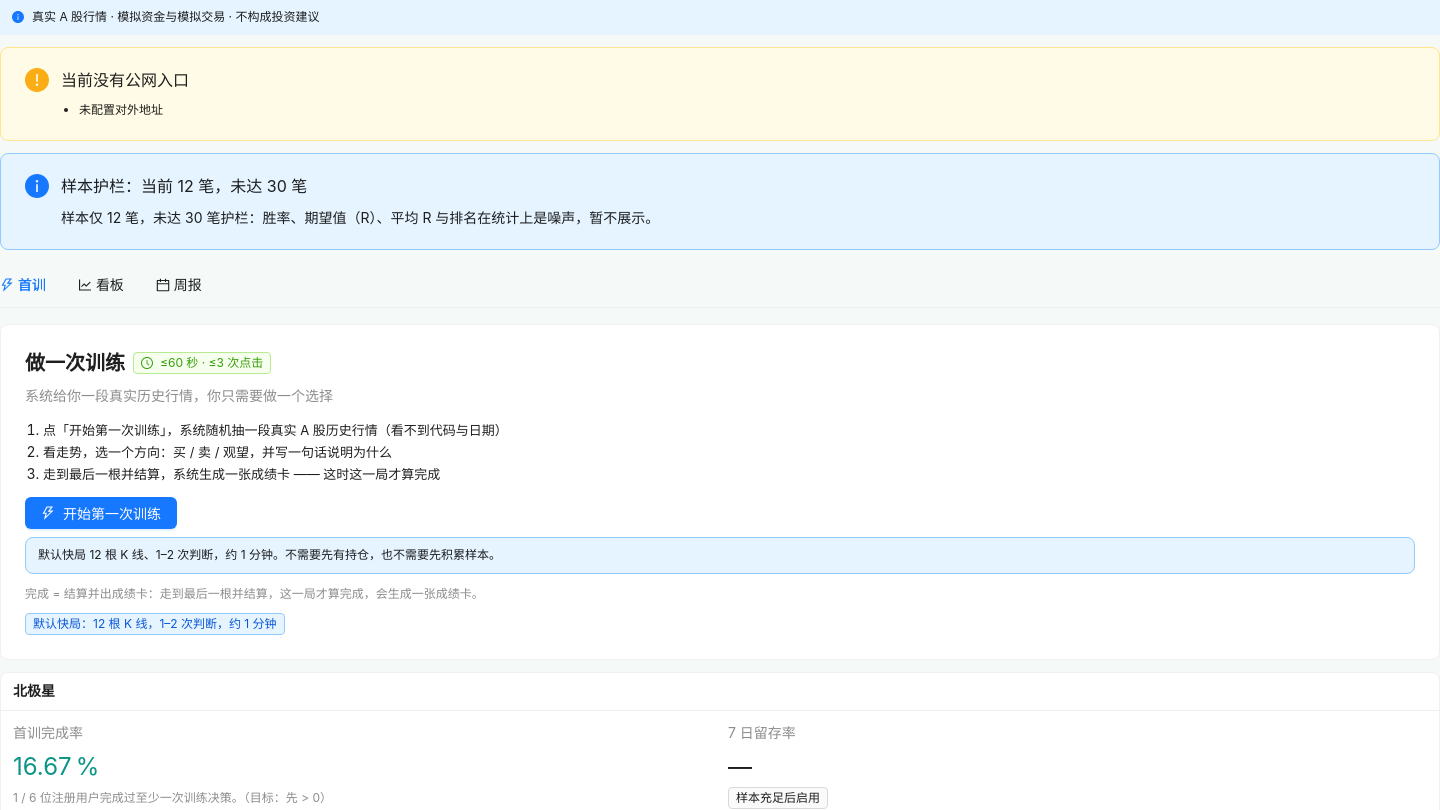
Scenario: RQ-94 看板与周报入口落地（P0） › P0 · 页面里能直接打开周报
Click the tab "周报" at (179, 285), box [156,274,202,296]
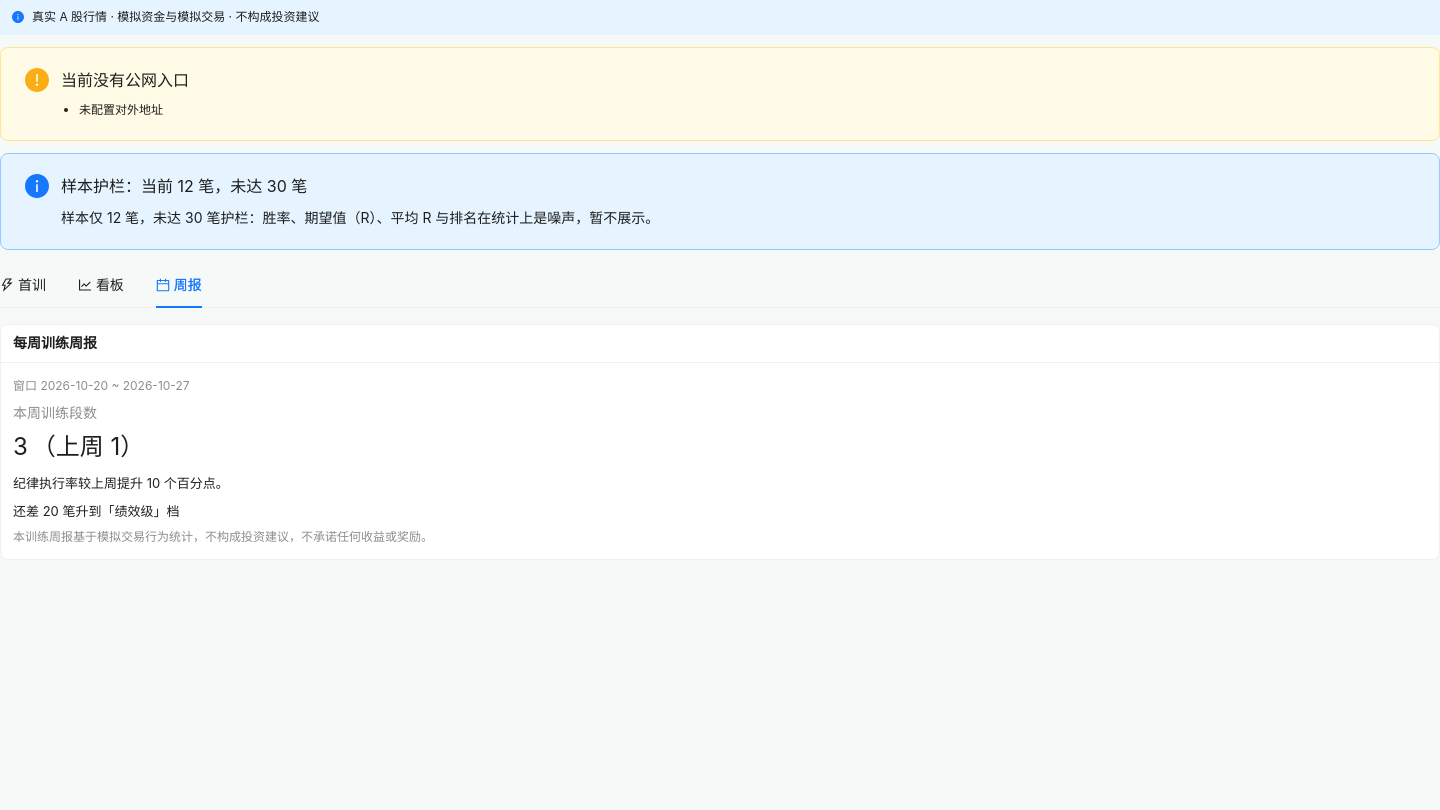
Expected: the element with test id "weekly-panel" is shown, [0,324,1439,560]
Expected: the text with test id "weekly-next-tier" shows "还差 20 笔", [13,503,180,519]
